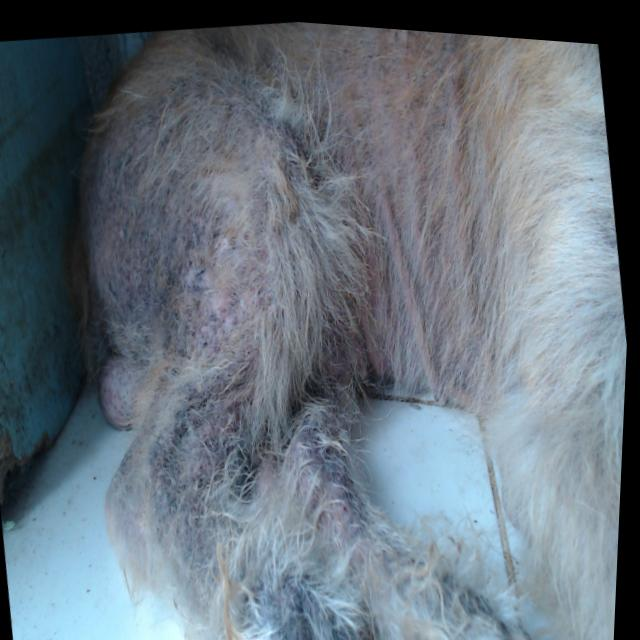demodicosis: (141, 365, 344, 579), (91, 113, 257, 286), (337, 153, 426, 331)
